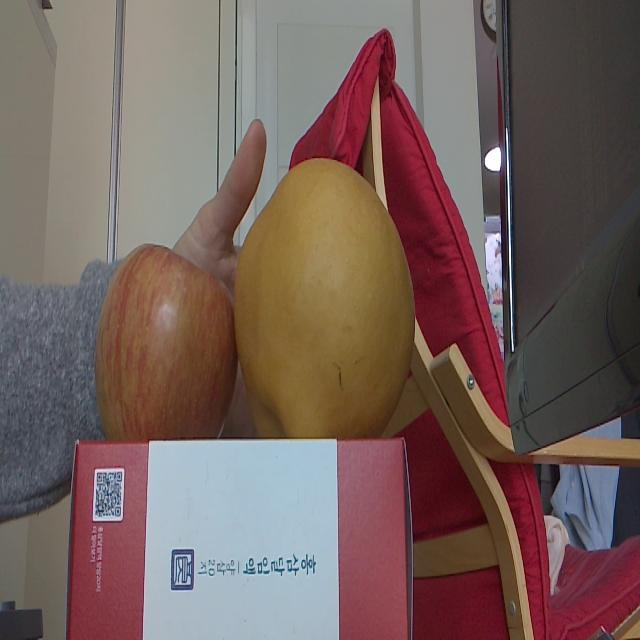apple: (95, 243, 231, 440)
pear: (234, 157, 416, 437)
